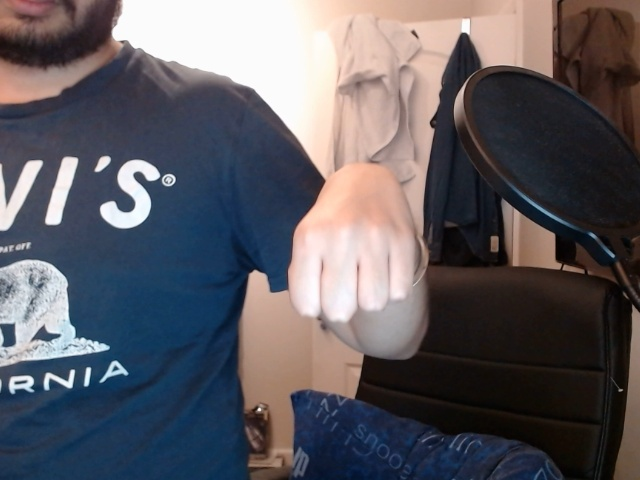Yes: (275, 155, 418, 332)
